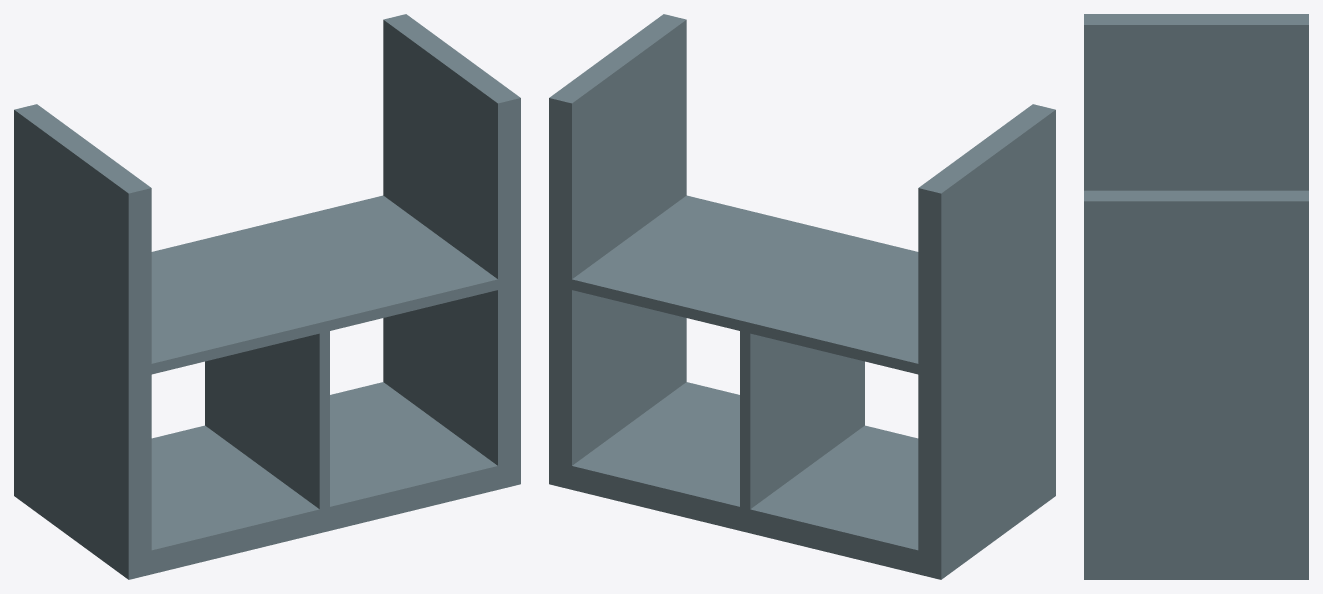
The model's file is step-5.obj.
The picture shows the model from 3 angles, left to right: view 1: azimuth 30°, elevation 25°; view 2: azimuth 150°, elevation 25°; view 3: azimuth 270°, elevation 25°; orthographic projection. The views are drawn at different scales.
Parts seen in each view (by area): view 1: IKE170029; view 2: IKE170029; view 3: IKE170029.
Part boxes in pixels (box(x1,y1,x2,y2)): IKE170029: box(14, 14, 520, 579); IKE170029: box(549, 14, 1055, 579); IKE170029: box(1084, 14, 1308, 579).
Bounding box in the file's own units: 0.77 × 0.725 × 0.39.
